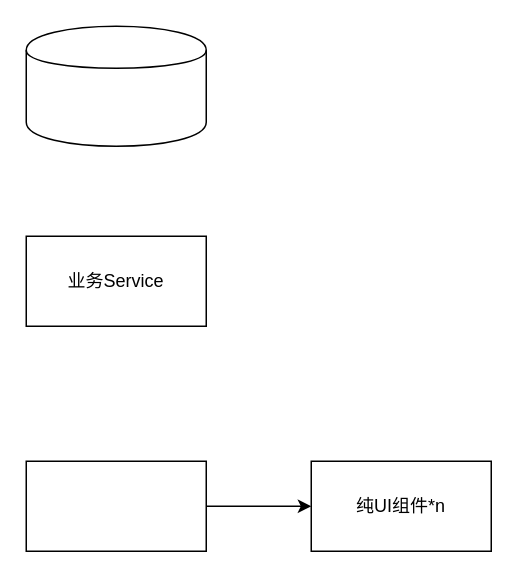
Image size: 518x578. Some labels were removed from this diagram. Each missing label, with the centre of its shape:
"业务Model原型" goes at point 115,85.
"业务组件" goes at point 115,505.
